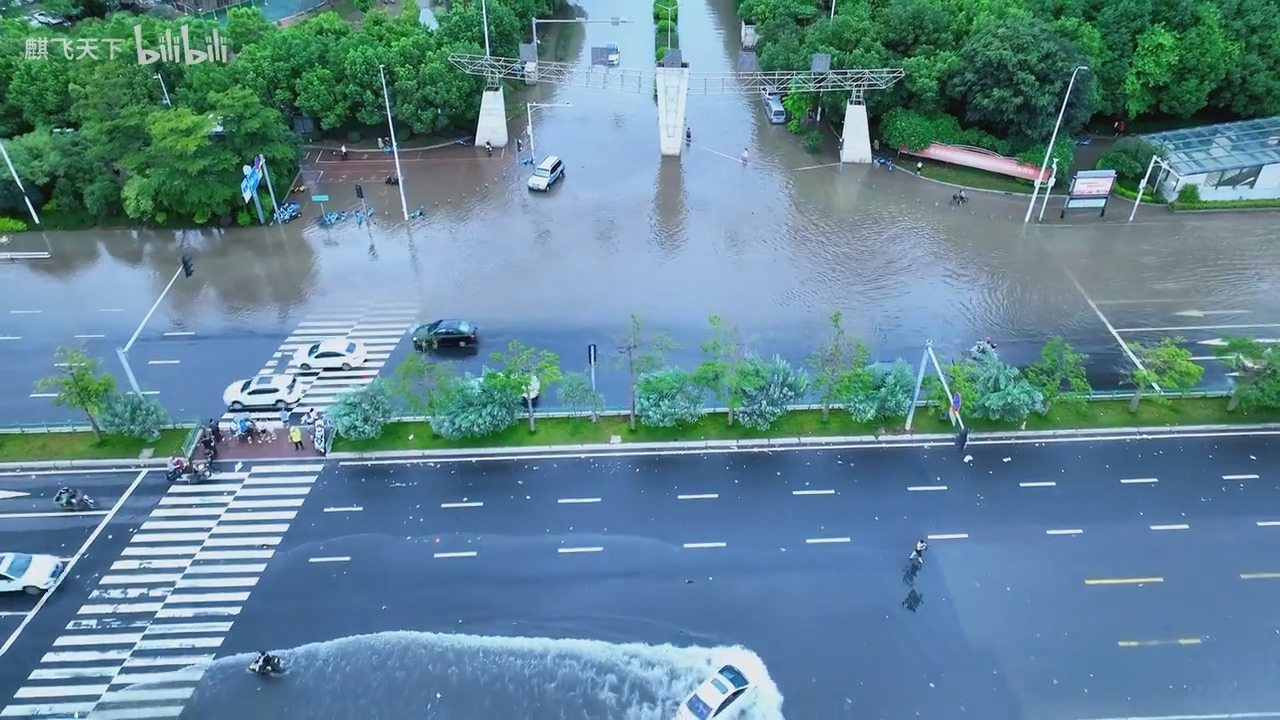puddle: (10, 215, 1276, 339)
